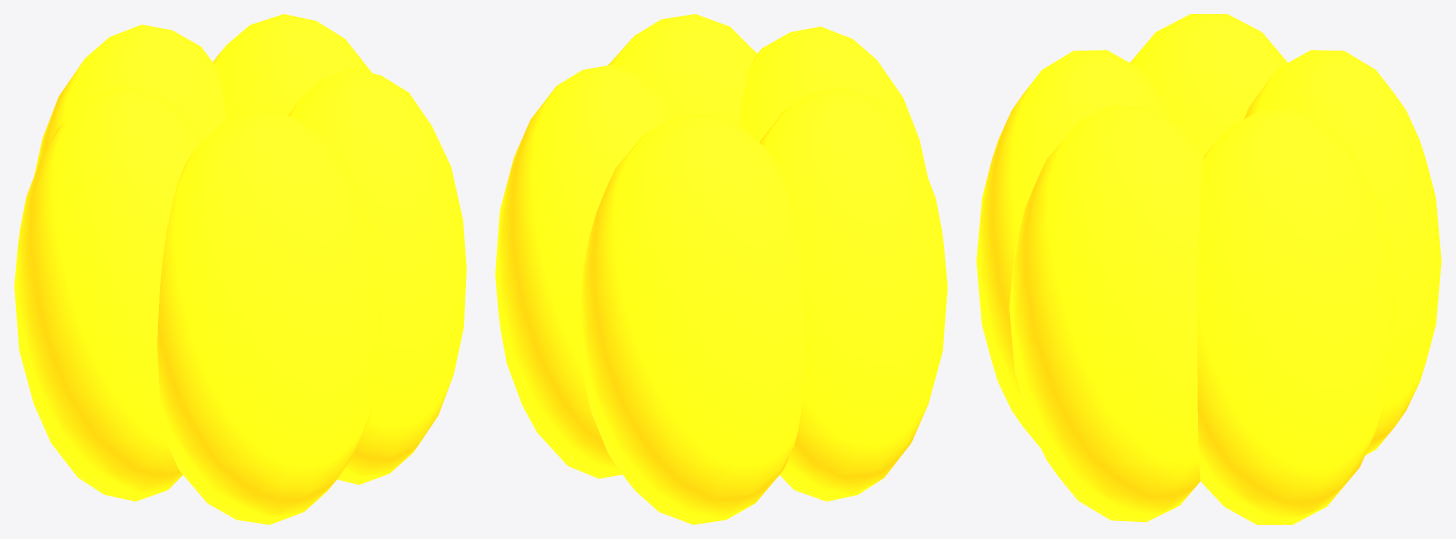
The model's file is flower1.fbx.
The picture shows the model from 3 angles, left to right: view 1: azimuth 30°, elevation 25°; view 2: azimuth 150°, elevation 25°; view 3: azimuth 270°, elevation 25°; orthographic projection.
Visible parts, largest first — view 1: Icosphere.002; view 2: Icosphere.002; view 3: Icosphere.002.
Boxes of the visible parts, x1,y1,x2,y2 form: Icosphere.002: [14, 14, 466, 524]; Icosphere.002: [495, 14, 947, 524]; Icosphere.002: [976, 14, 1441, 524].
Size of the model in its own units: 114 by 113 by 116.
